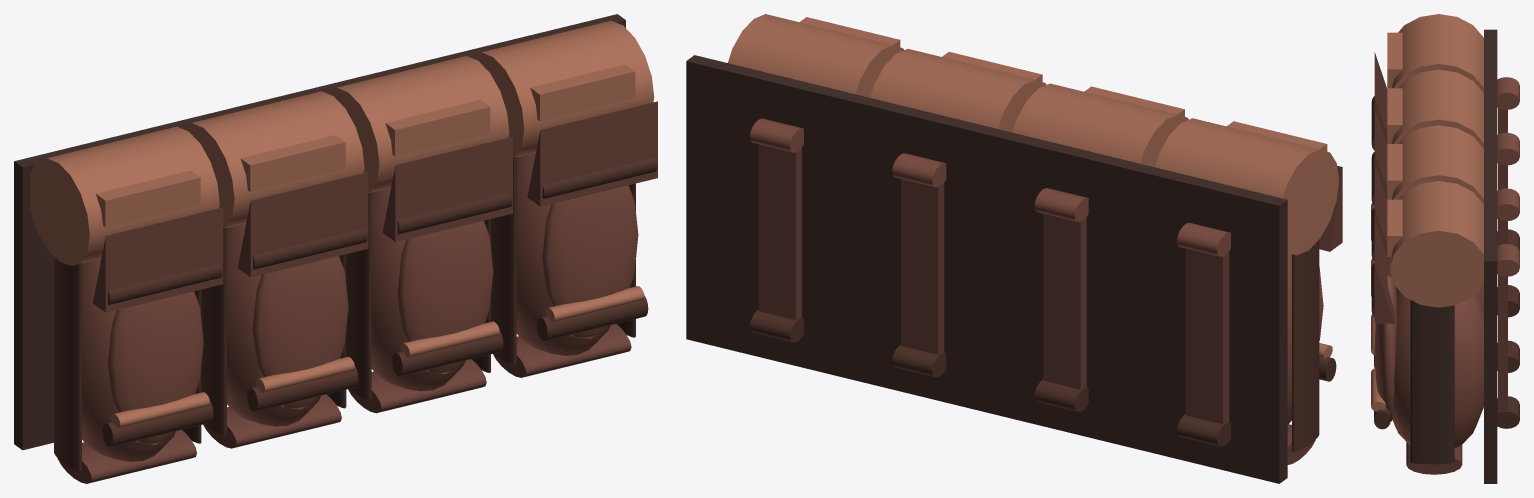
Rendered from CMU3DLargeMagazinePouchCloud.glb.
3 renders of one model, left to right at view 1: azimuth 30°, elevation 25°; view 2: azimuth 150°, elevation 25°; view 3: azimuth 270°, elevation 25°, orthographic. The views are drawn at different scales.
Parts seen in each view (by area): view 1: pocket 1 rounded closure crown, continuous rear woven backing, pocket 2 rounded closure crown, pocket 3 rounded closure crown, pocket 4 rounded closure crown, pocket 2 broad soft front, pocket 1 broad soft front, pocket 3 broad soft front, pocket 4 broad soft front, pocket 2 drooping flap face, pocket 1 drooping flap face, pocket 4 drooping flap face (+29 smaller); view 2: continuous rear woven backing, pocket 1 rounded closure crown, pocket 3 rounded closure crown, pocket 2 rounded closure crown, pocket 4 rounded closure crown, pocket 1 rear attachment strip, pocket 2 rear attachment strip, pocket 3 rear attachment strip, pocket 4 rear attachment strip, pocket 1 left seam, pocket 3 rear loop upper fold, pocket 2 rear loop upper fold (+12 smaller); view 3: pocket 4 rounded closure crown, pocket 4 right seam, continuous rear woven backing, pocket 4 soft curved body, pocket 1 rounded closure crown, pocket 2 rounded closure crown, pocket 3 rounded closure crown, pocket 4 broad soft front, pocket 4 drooping flap face, pocket 4 rear attachment strip, pocket 3 drooping flap face, pocket 2 drooping flap face (+23 smaller).
Boxes of the visible parts, left/top/right/bottom form: pocket 1 rounded closure crown: left=30, top=126, right=219, bottom=265; continuous rear woven backing: left=14, top=14, right=625, bottom=450; pocket 2 rounded closure crown: left=181, top=91, right=364, bottom=228; pocket 3 rounded closure crown: left=325, top=56, right=509, bottom=192; pocket 4 rounded closure crown: left=470, top=20, right=654, bottom=157; pocket 2 broad soft front: left=252, top=256, right=348, bottom=409; pocket 1 broad soft front: left=108, top=291, right=203, bottom=444; pocket 3 broad soft front: left=397, top=220, right=493, bottom=374; pocket 4 broad soft front: left=542, top=185, right=638, bottom=338; pocket 2 drooping flap face: left=237, top=172, right=368, bottom=277; pocket 1 drooping flap face: left=93, top=207, right=223, bottom=312; pocket 4 drooping flap face: left=527, top=101, right=657, bottom=206; continuous rear woven backing: left=686, top=55, right=1287, bottom=483; pocket 1 rounded closure crown: left=1155, top=118, right=1338, bottom=254; pocket 3 rounded closure crown: left=870, top=49, right=1046, bottom=132; pocket 2 rounded closure crown: left=1012, top=83, right=1188, bottom=167; pocket 4 rounded closure crown: left=728, top=14, right=903, bottom=97; pocket 1 rear attachment strip: left=1185, top=248, right=1229, bottom=424; pocket 2 rear attachment strip: left=1043, top=213, right=1086, bottom=389; pocket 3 rear attachment strip: left=901, top=179, right=944, bottom=354; pocket 4 rear attachment strip: left=758, top=144, right=801, bottom=319; pocket 1 left seam: left=1292, top=239, right=1319, bottom=452; pocket 3 rear loop upper fold: left=892, top=153, right=946, bottom=187; pocket 2 rear loop upper fold: left=1034, top=188, right=1088, bottom=222; pocket 4 rounded closure crown: left=1390, top=181, right=1483, bottom=307; pocket 4 right seam: left=1410, top=300, right=1454, bottom=464; continuous rear woven backing: left=1484, top=29, right=1497, bottom=483; pocket 4 soft curved body: left=1392, top=288, right=1483, bottom=447; pocket 1 rounded closure crown: left=1391, top=14, right=1483, bottom=92; pocket 2 rounded closure crown: left=1391, top=69, right=1483, bottom=148; pocket 3 rounded closure crown: left=1391, top=125, right=1483, bottom=204; pocket 4 broad soft front: left=1374, top=275, right=1396, bottom=421; pocket 4 drooping flap face: left=1374, top=219, right=1394, bottom=323; pocket 4 rear attachment strip: left=1498, top=275, right=1507, bottom=412; pocket 3 drooping flap face: left=1374, top=163, right=1389, bottom=262; pocket 2 drooping flap face: left=1374, top=108, right=1387, bottom=199.
Size of the model in its own units: 0.7812 by 0.392 by 0.212.
